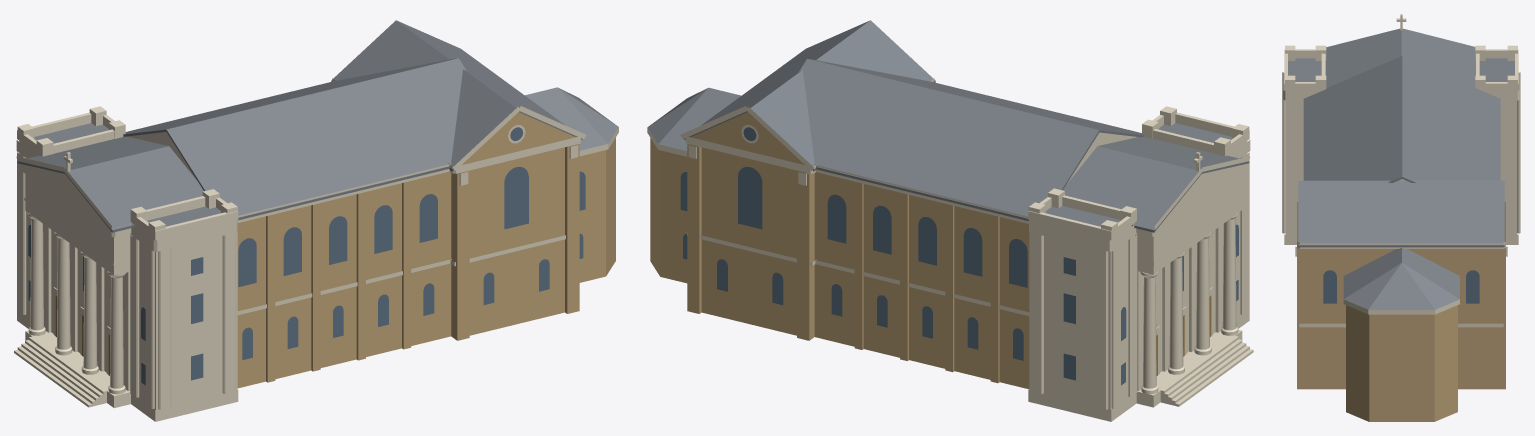
File: indy-ss-peter-and-paul-cathedral.glb
3 renders of one model, left to right at view 1: azimuth 30°, elevation 25°; view 2: azimuth 150°, elevation 25°; view 3: azimuth 270°, elevation 25°, orthographic. The views are drawn at different scales.
Visible parts, largest first — view 1: Cathedral of SS. Peter and Paul; view 2: Cathedral of SS. Peter and Paul; view 3: Cathedral of SS. Peter and Paul.
Boxes of the visible parts, x1,y1,x2,y2 form: Cathedral of SS. Peter and Paul: (14,20,618,421); Cathedral of SS. Peter and Paul: (647,20,1253,421); Cathedral of SS. Peter and Paul: (1282,14,1520,421).
Size of the model in its own units: 71.4 by 27.7 by 31.7.
